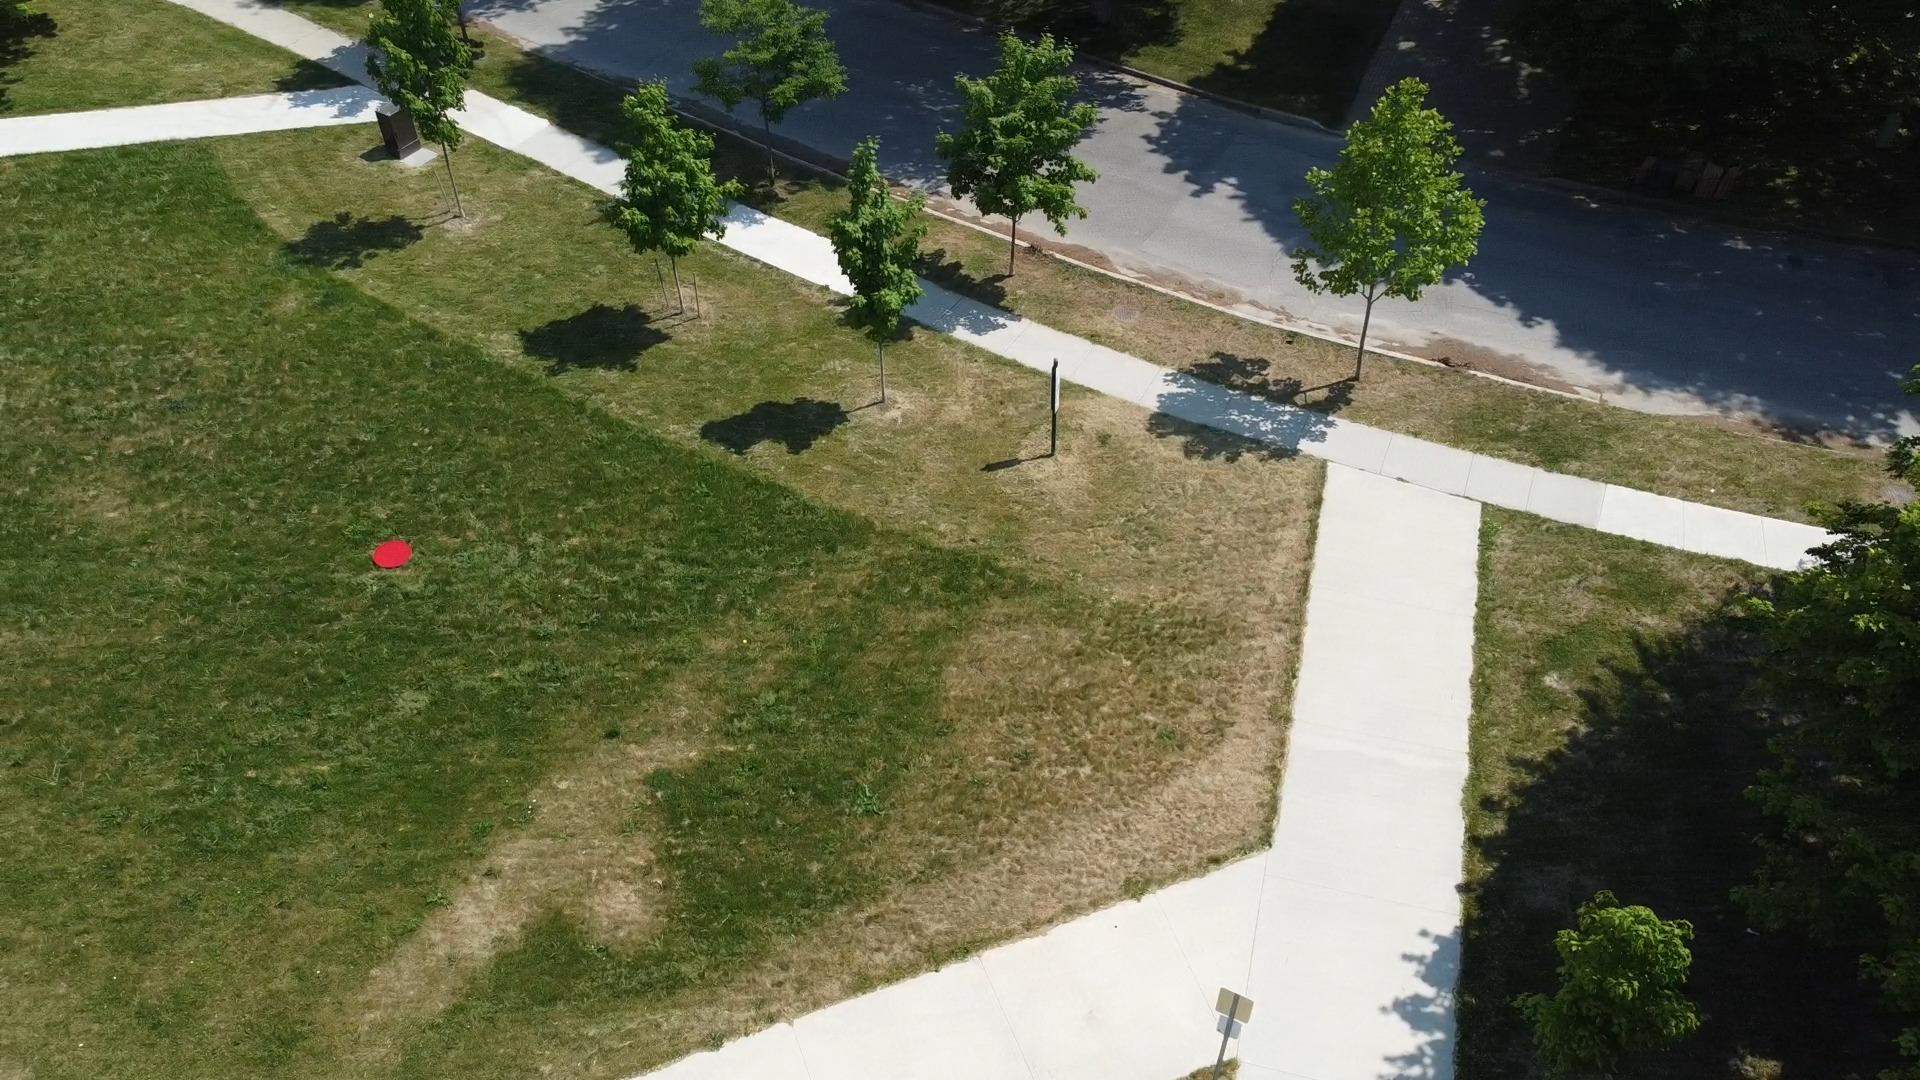Red: (372, 538, 414, 570)
